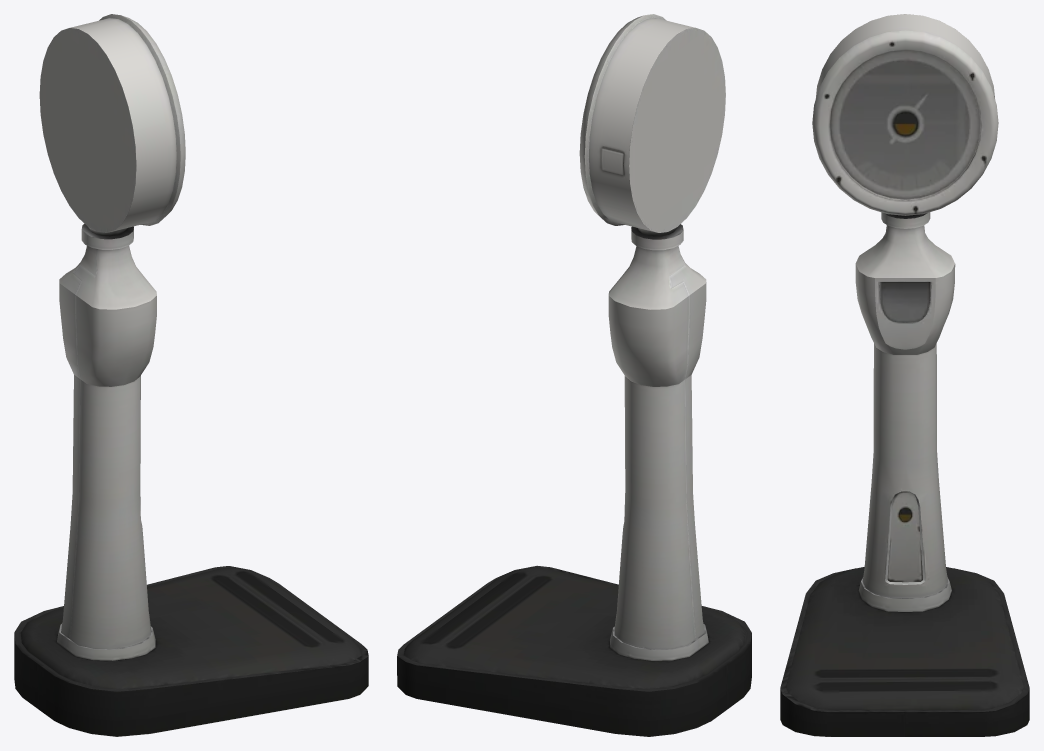
3 renders of one model, left to right at view 1: azimuth 30°, elevation 25°; view 2: azimuth 150°, elevation 25°; view 3: azimuth 270°, elevation 25°, orthographic. The views are drawn at different scales.
Parts seen in each view (by area): view 1: body0_model0_lod0_mesh0; view 2: body0_model0_lod0_mesh0; view 3: body0_model0_lod0_mesh0.
Part boxes in pixels (x1=…): body0_model0_lod0_mesh0: x1=14, y1=14, x2=368, y2=736; body0_model0_lod0_mesh0: x1=397, y1=14, x2=751, y2=736; body0_model0_lod0_mesh0: x1=780, y1=14, x2=1029, y2=736.
Size of the model in its own units: 42.18 by 95.18 by 34.71.
1 material, 1 textured.
